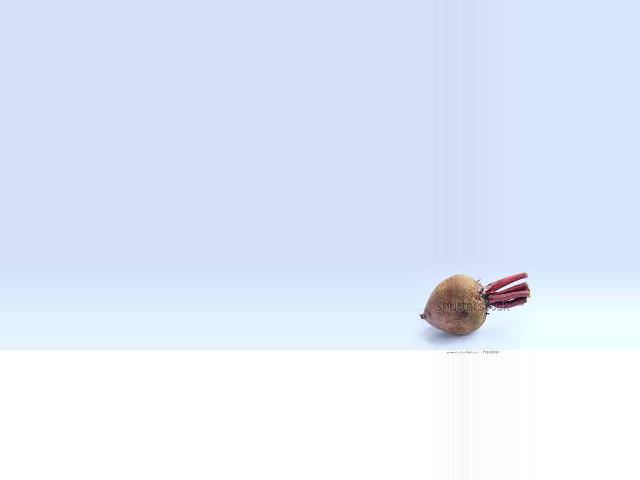beet: (421, 274, 528, 334)
